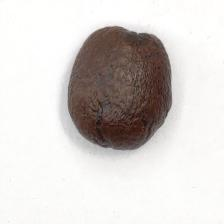NG: (89, 98, 146, 149)
